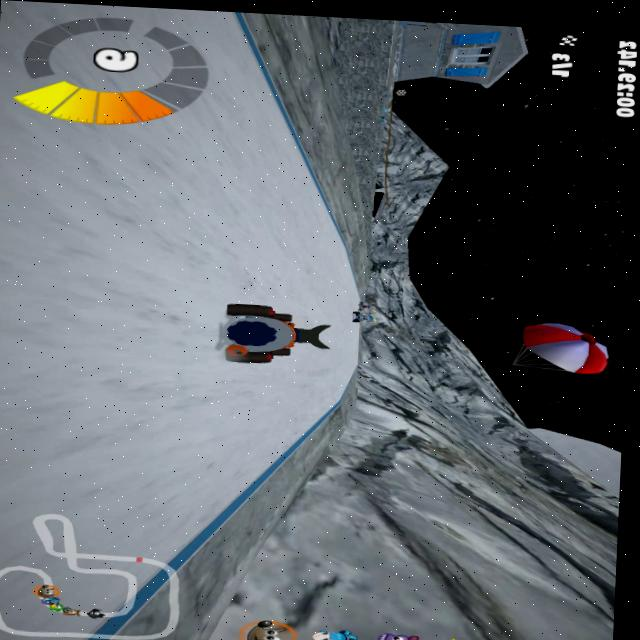enemy_kart: (351, 300, 372, 328)
player_kart: (217, 301, 329, 374)
track: (0, 2, 233, 242), (0, 287, 219, 529), (0, 231, 354, 306), (0, 518, 143, 640), (212, 368, 320, 457), (220, 143, 306, 245), (229, 41, 279, 144), (327, 325, 359, 368), (305, 199, 333, 247), (214, 454, 258, 482), (323, 369, 346, 390), (326, 305, 348, 326), (319, 390, 339, 405)
